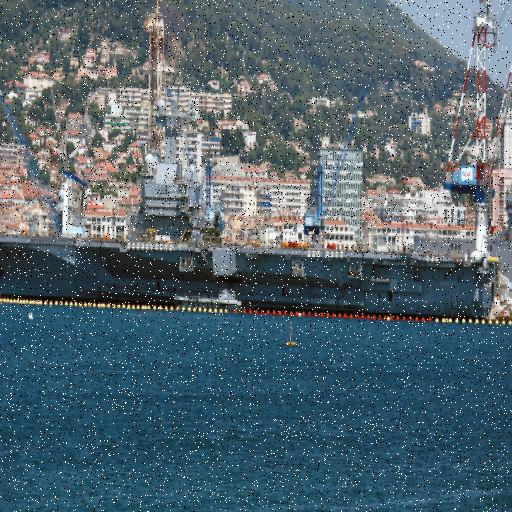Portanaves: (1, 172, 506, 310)
